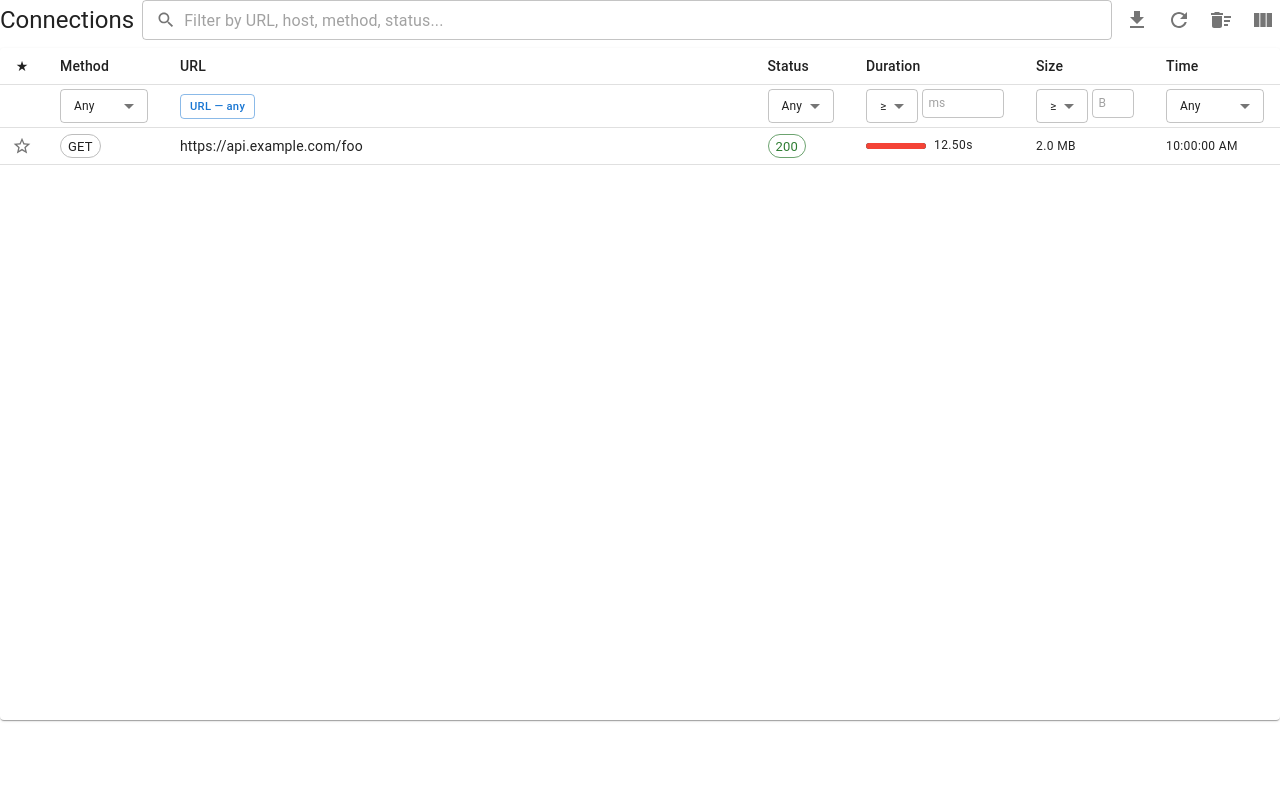
it: ConnectionsPage — detail drawer headers › formats duration in seconds for slow requests and size in MB for large bodies
What coordinates should you click on to do the following:
click the text "https://api.example.com/foo"
I would click on:
 (458, 147)
Its box is left=164, top=128, right=752, bottom=165.
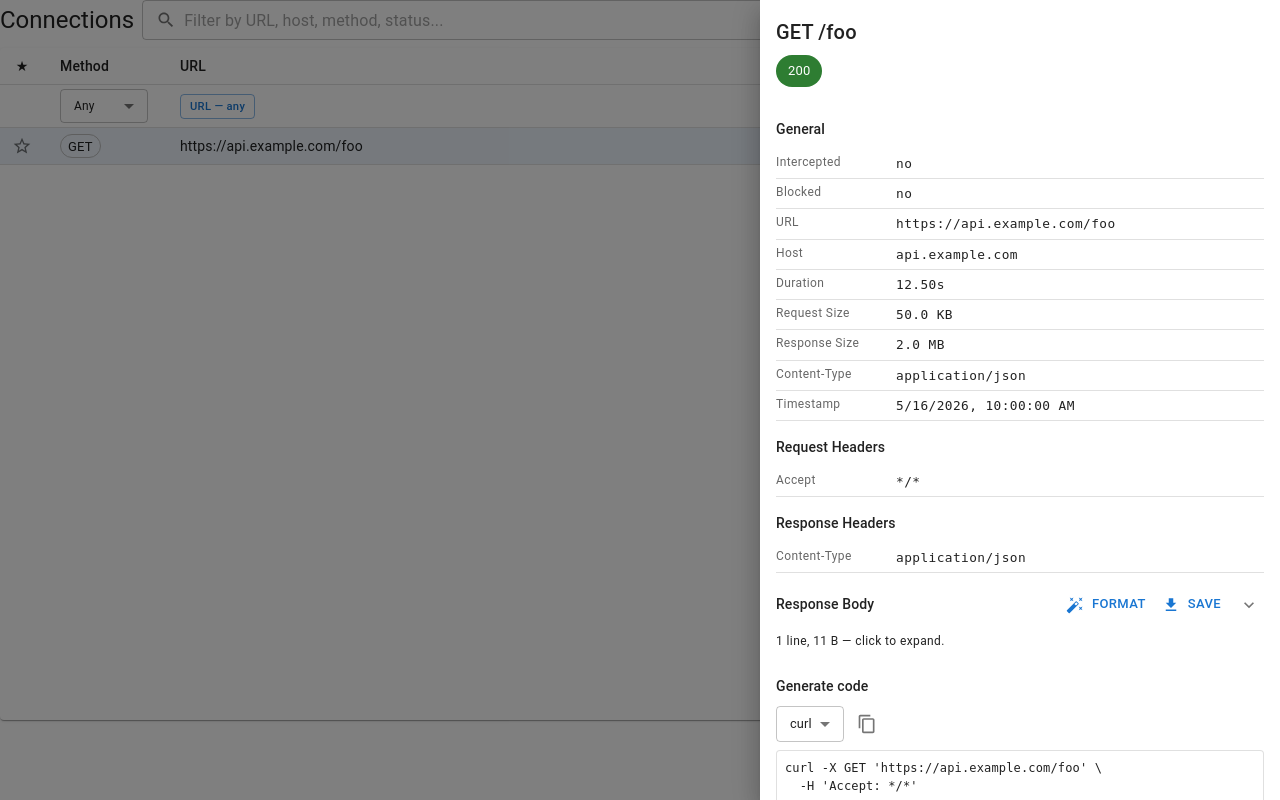
Expected: the text "50.0 KB" is shown, left=896, top=304, right=953, bottom=325
